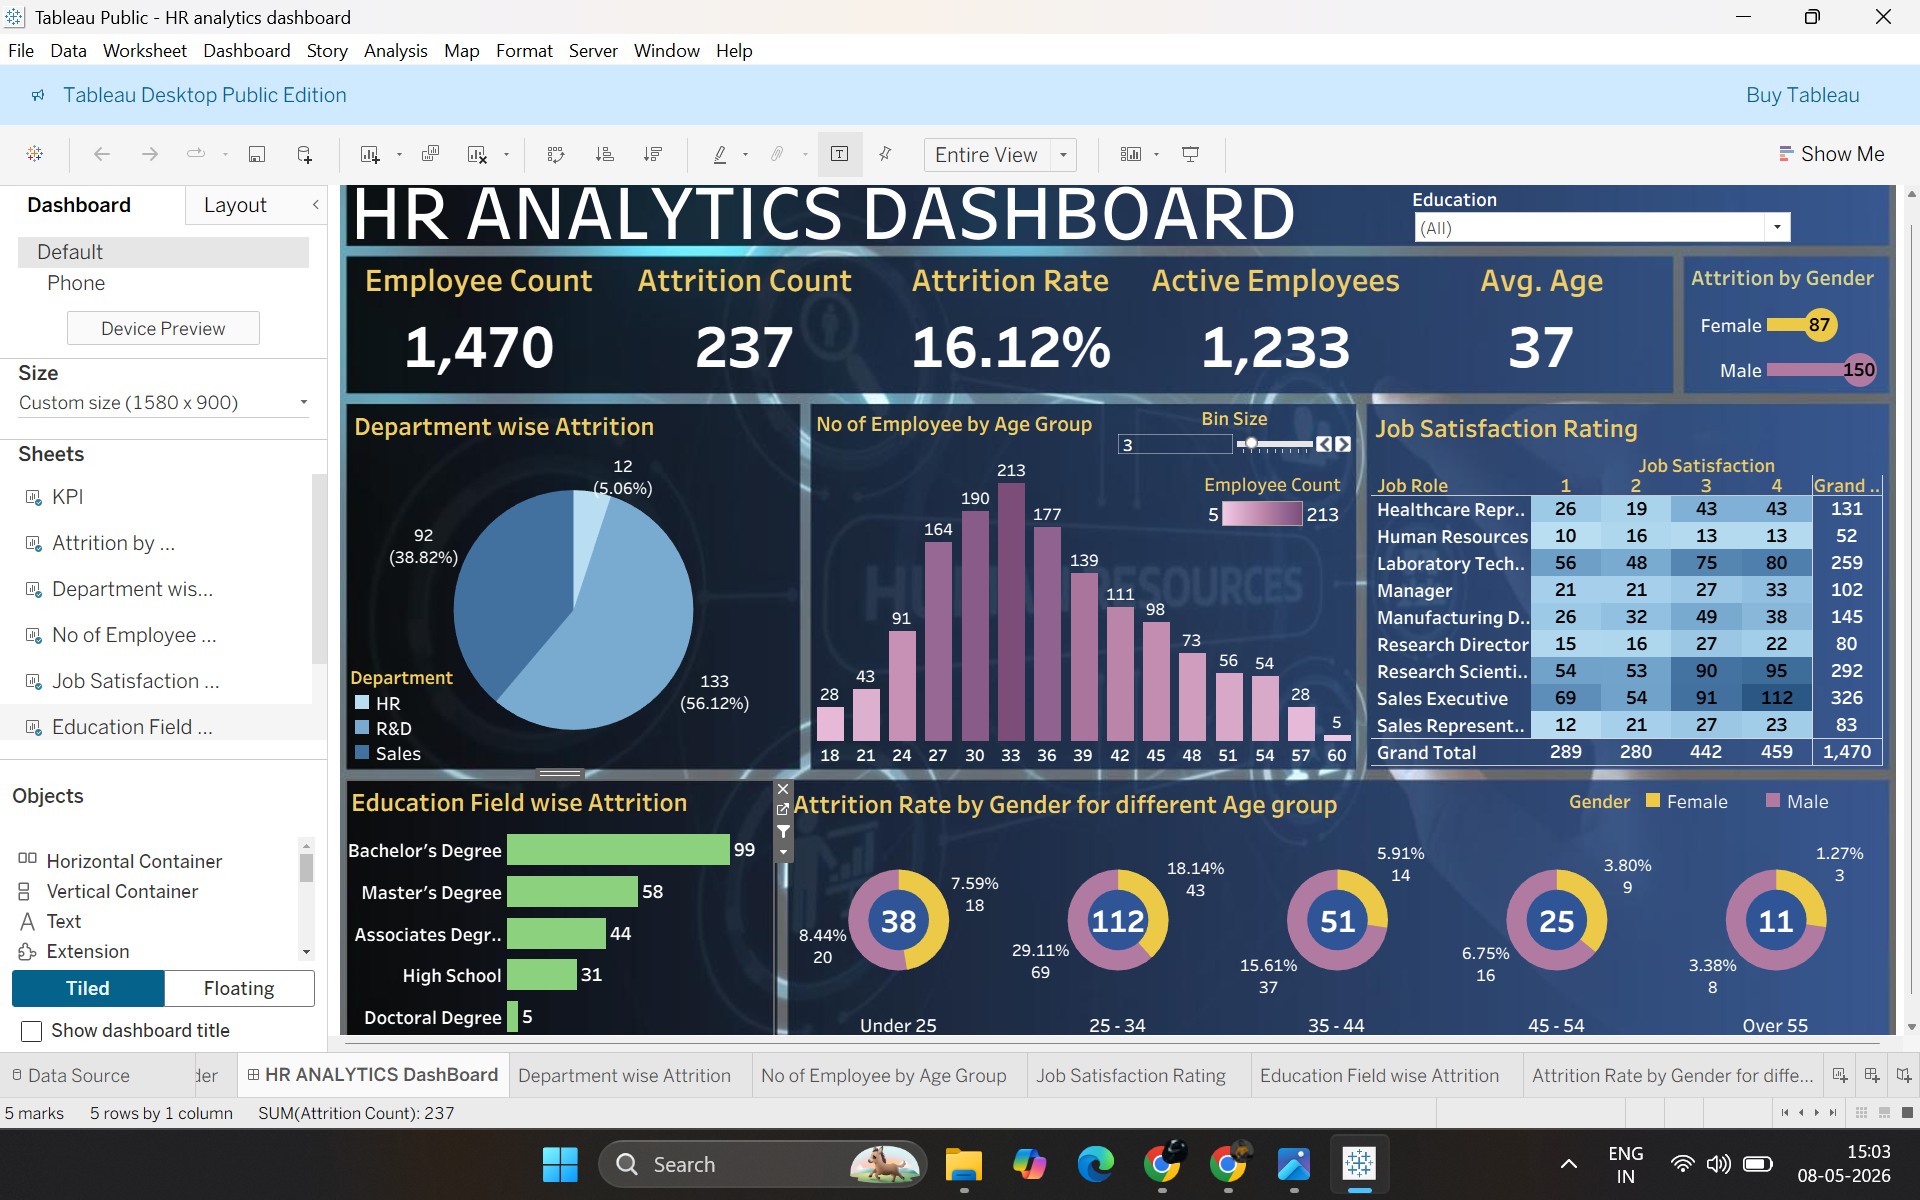

This screenshot's page, from the dashboard's own definition file:
{"tool":"tableau","page":{"name":"HR ANALYTICS DashBoard","canvas":[1580,900],"ordinal":0},"visuals":[{"type":"image","param":"C:/Users/abotu/Downloads/HR background.pptx.jpg","box":[8,8,1564,884]},{"type":"text","box":[18,17,966,65]},{"type":"filter","title":"Department wise Attrition","param":"[federated.09eo3g11pgwjql1co0jxv1b8c910].[none:Education:nk]","box":[1084,26,382,56]},{"type":"worksheet","title":"KPI","mark":"Automatic","box":[18,99,1329,132]},{"type":"worksheet","title":"Attrition by Gender","mark":"Automatic","rows":["Gender"],"cols":["Calculation_1376412702122831872","Calculation_1376412702122831872"],"box":[1359,99,195,133]},{"type":"worksheet","title":"Department wise Attrition","mark":"Pie","box":[22,245,447,362]},{"type":"worksheet","title":"No of Employee by Age Group","mark":"Automatic","rows":["Employee Count"],"cols":["Age (bin)"],"box":[484,245,544,362]},{"type":"parameter","param":"[Parameters].[Parameter 1]","box":[787,245,239,52]},{"type":"worksheet","title":"Job Satisfaction Rating ","mark":"Square","rows":["Job Role"],"cols":["Job Satisfaction"],"box":[1043,247,512,359]},{"type":"legend","title":"No of Employee by Age Group","param":"[federated.09eo3g11pgwjql1co0jxv1b8c910].[sum:Employee Count:qk]","box":[876,311,140,100]},{"type":"legend","title":"Department wise Attrition","param":"[federated.09eo3g11pgwjql1co0jxv1b8c910].[none:Department:nk]","box":[22,504,140,101]},{"type":"worksheet","title":"Education Field wise Attrition","mark":"Automatic","rows":["Education"],"cols":["Calculation_1376412702122831872"],"box":[19,621,426,257]},{"type":"worksheet","title":"Attrition Rate by Gender for different Age group","mark":"Pie","rows":["Calculation_1376412702150086660","Calculation_1376412702150086660"],"cols":["CF_age band"],"box":[461,623,1097,255]},{"type":"legend","title":"Attrition Rate by Gender for different Age group","param":"[federated.09eo3g11pgwjql1co0jxv1b8c910].[none:Gender:nk]","box":[1241,628,320,47]}]}

Visuals, with their boxes on the page's 1580x900 design canvas (x1, y1, x2, y2). These are canvas units, not pixel positions in the 1920x1200 screenshot, which may show the page scaled, cropped or inside an application window:
image: crop(8, 8, 1572, 892)
text: crop(18, 17, 984, 82)
"Department wise Attrition" filter: crop(1084, 26, 1466, 82)
"KPI" worksheet: crop(18, 99, 1347, 231)
"Attrition by Gender" worksheet: crop(1359, 99, 1554, 232)
"Department wise Attrition" worksheet (Pie marks): crop(22, 245, 469, 607)
"No of Employee by Age Group" worksheet: crop(484, 245, 1028, 607)
parameter: crop(787, 245, 1026, 297)
"Job Satisfaction Rating " worksheet (Square marks): crop(1043, 247, 1555, 606)
"No of Employee by Age Group" legend: crop(876, 311, 1016, 411)
"Department wise Attrition" legend: crop(22, 504, 162, 605)
"Education Field wise Attrition" worksheet: crop(19, 621, 445, 878)
"Attrition Rate by Gender for different Age group" worksheet (Pie marks): crop(461, 623, 1558, 878)
"Attrition Rate by Gender for different Age group" legend: crop(1241, 628, 1561, 675)
